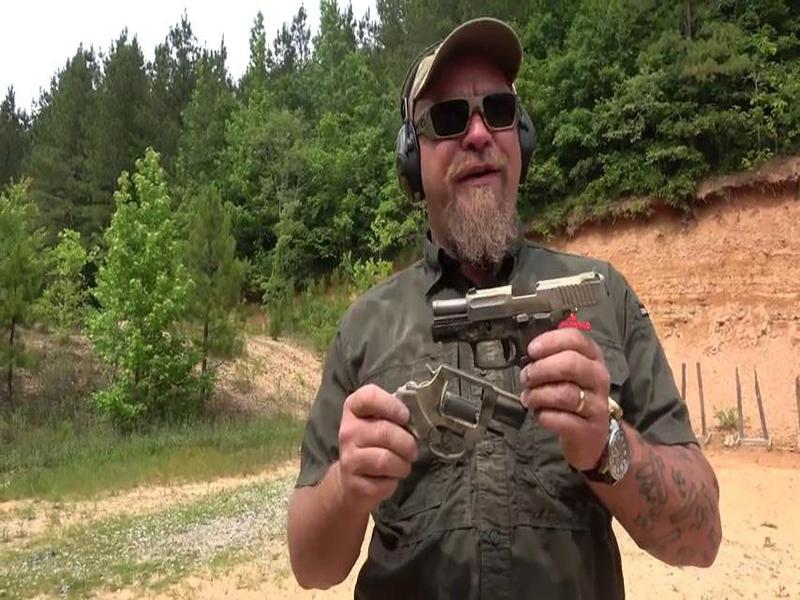Pistola: (429, 261, 625, 382)
Revolver: (354, 356, 535, 498)
